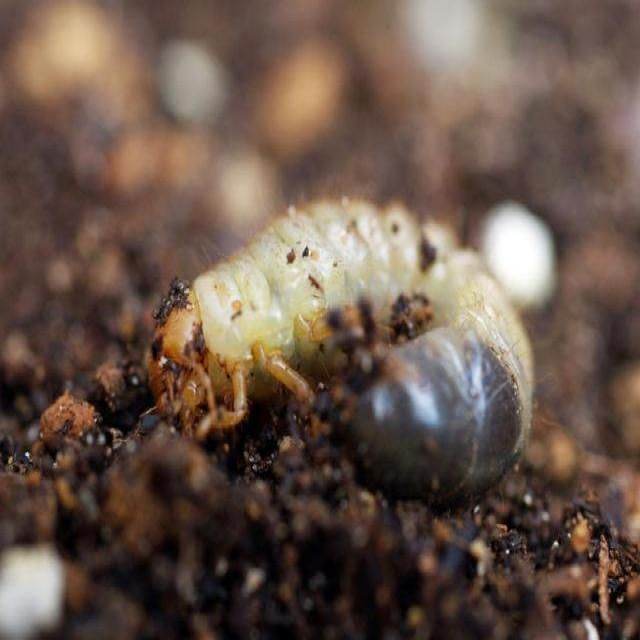Grub-Adult-: (116, 155, 555, 520)
